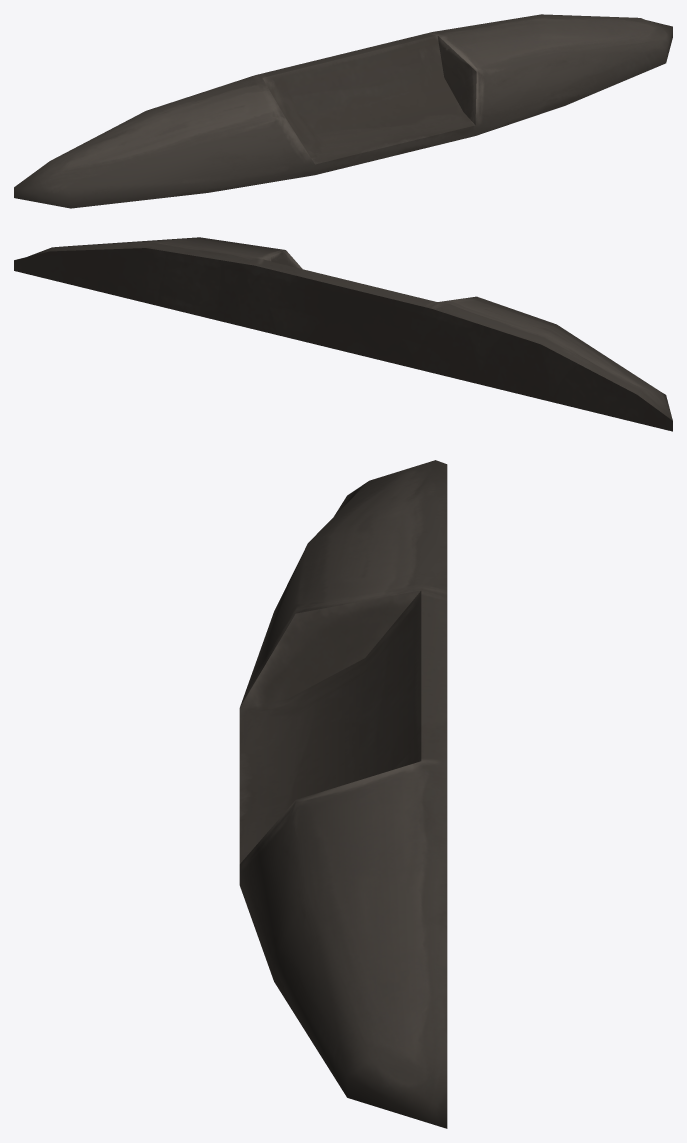
The model's file is cursor.fbx.
The picture shows the model from 3 angles, top to bottom: view 1: azimuth 30°, elevation 25°; view 2: azimuth 150°, elevation 25°; view 3: azimuth 270°, elevation 25°; orthographic projection. The views are drawn at different scales.
Visible parts, largest first — view 1: Box085; view 2: Box085; view 3: Box085.
Part boxes in pixels (x1,y1,x2,y2): Box085: [14, 14, 672, 208]; Box085: [14, 237, 672, 431]; Box085: [239, 460, 447, 1128].
Bounding box in the file's own units: 13.44 × 1.28 × 1.83.
Materials: 1 (1 with a texture image).
